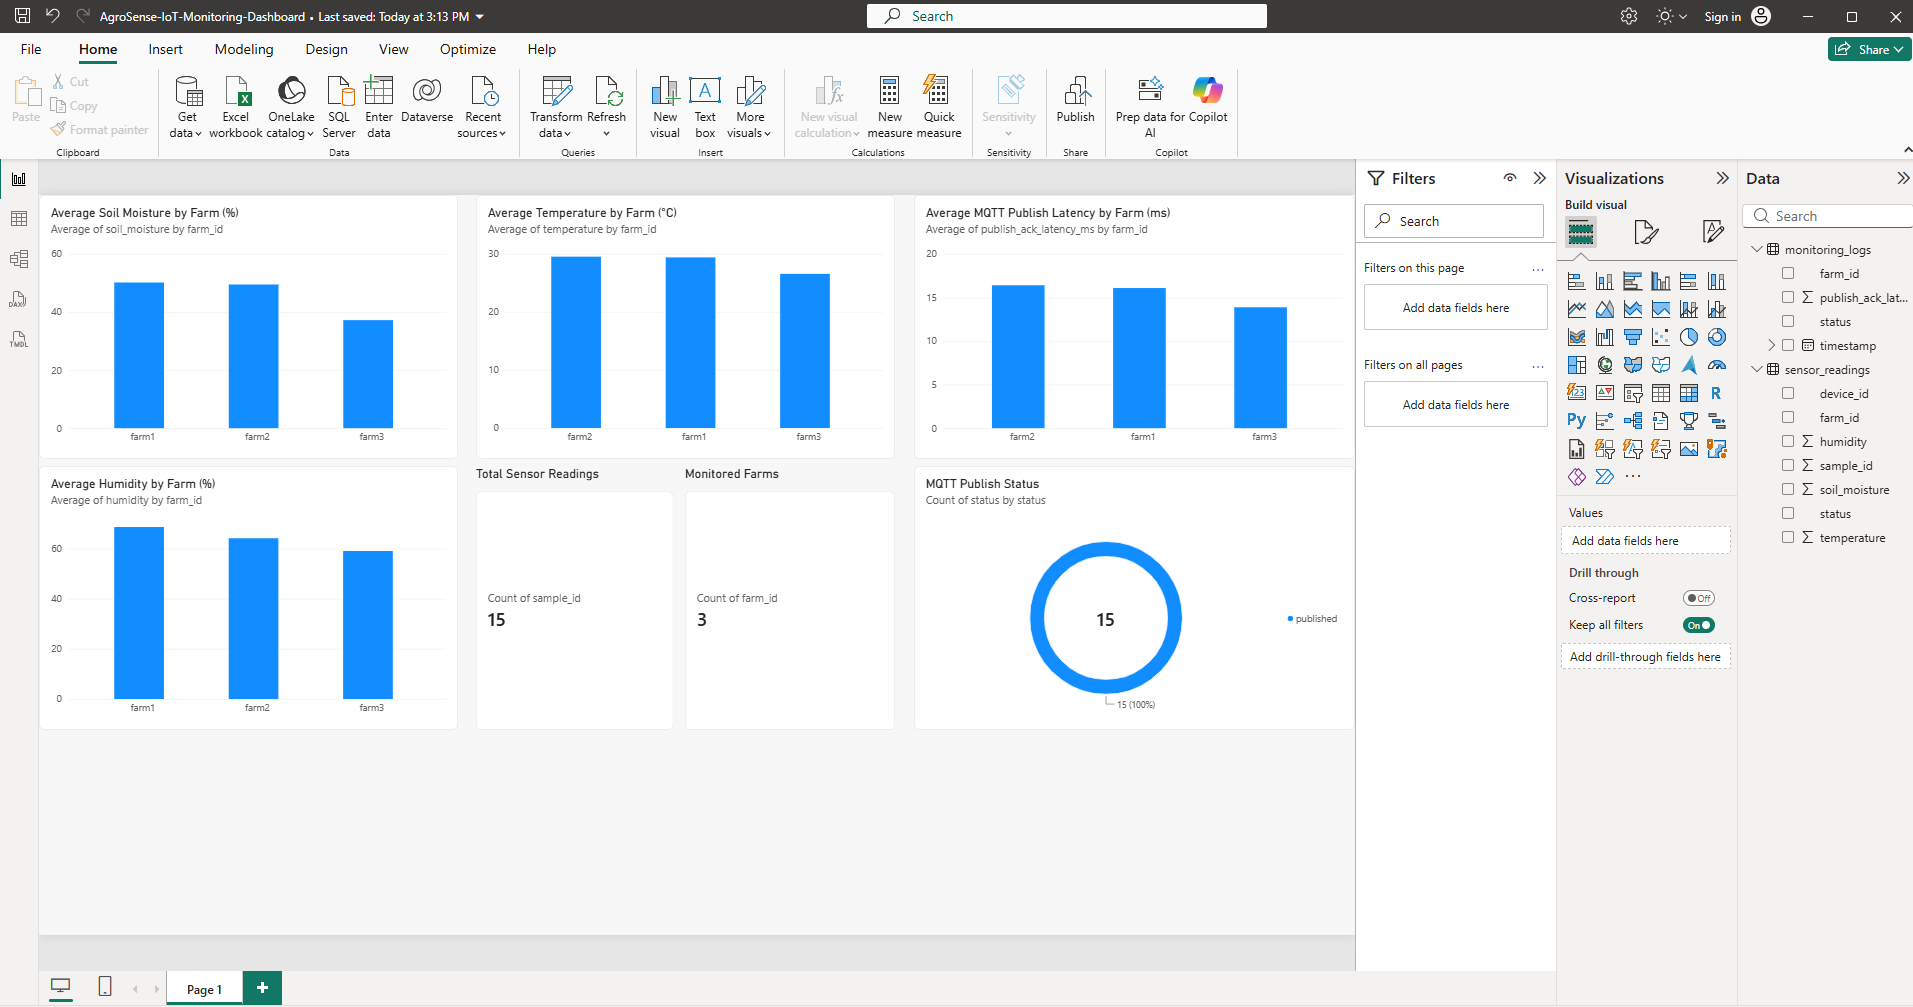

The dashboard page shown, as its layout file describes it:
{"tool":"powerbi","page":{"name":"Page 1","canvas":[1920,1080],"ordinal":0},"visuals":[{"type":"clusteredColumnChart","title":"Average Soil Moisture by Farm (%)","fields":{"Category":["sensor_readings.farm_id"],"Y":["Avg(sensor_readings.soil_moisture)"]},"box":[0,0,611.3,385.2],"z":0},{"type":"clusteredColumnChart","title":"Average Temperature by Farm (°C)","fields":{"Category":["sensor_readings.farm_id"],"Y":["Avg(sensor_readings.temperature)"]},"box":[637.6,0,611,385],"z":1},{"type":"clusteredColumnChart","title":"Average Humidity by Farm (%)","fields":{"Category":["sensor_readings.farm_id"],"Y":["Avg(sensor_readings.humidity)"]},"box":[0,395,611,385],"z":2},{"type":"cardVisual","title":"Total Sensor Readings","fields":{"Data":["CountNonNull(sensor_readings.sample_id)"]},"box":[637.6,395.4,288.9,385.2],"z":3},{"type":"cardVisual","title":"Monitored Farms","fields":{"Data":["Count(sensor_readings.farm_id)"]},"box":[942.5,395.4,306.4,385.2],"z":4},{"type":"clusteredColumnChart","title":"Average MQTT Publish Latency by Farm (ms)","fields":{"Category":["monitoring_logs.farm_id"],"Y":["Avg(monitoring_logs.publish_ack_latency_ms)"]},"box":[1276.6,0,643.4,385.2],"z":5},{"type":"donutChart","title":"MQTT Publish Status","fields":{"Category":["monitoring_logs.status"],"Y":["CountNonNull(monitoring_logs.status)"]},"box":[1276.6,395.4,643.4,385.2],"z":6}]}

Visuals, with their boxes on the page's 1920x1080 design canvas (x1, y1, x2, y2). These are canvas units, not pixel positions in the 1913x1007 screenshot, which may show the page scaled, cropped or inside an application window:
"Average Soil Moisture by Farm (%)" clusteredColumnChart: Rect(0, 0, 611, 385)
"Average Temperature by Farm (°C)" clusteredColumnChart: Rect(638, 0, 1249, 385)
"Average Humidity by Farm (%)" clusteredColumnChart: Rect(0, 395, 611, 780)
"Total Sensor Readings" cardVisual: Rect(638, 395, 926, 781)
"Monitored Farms" cardVisual: Rect(942, 395, 1249, 781)
"Average MQTT Publish Latency by Farm (ms)" clusteredColumnChart: Rect(1277, 0, 1920, 385)
"MQTT Publish Status" donutChart: Rect(1277, 395, 1920, 781)
